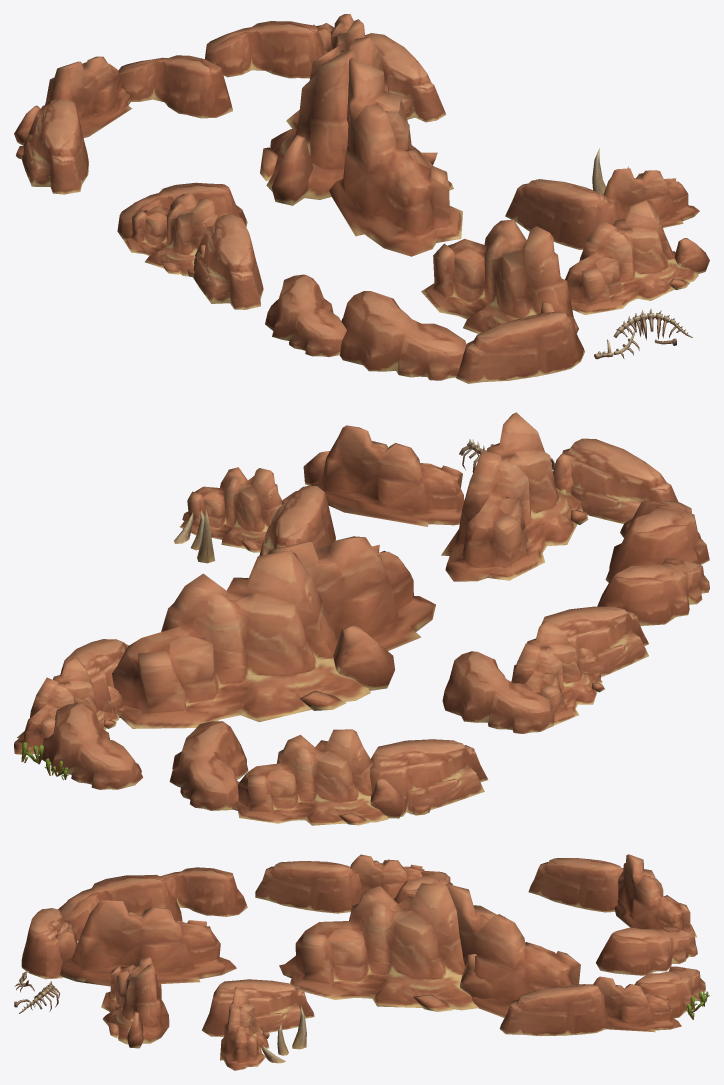
File: rock_red03.fbx
3 renders of one model, top to bottom at view 1: azimuth 30°, elevation 25°; view 2: azimuth 150°, elevation 25°; view 3: azimuth 270°, elevation 25°, orthographic. The views are drawn at different scales.
Parts seen in each view (by area): view 1: rock_red03; view 2: rock_red03; view 3: rock_red03.
Part boxes in pixels (box(x1,y1,x2,y2)): rock_red03: box(14, 14, 709, 383); rock_red03: box(14, 412, 709, 825); rock_red03: box(14, 854, 709, 1070).
Bounding box in the file's own units: 5504 × 1335 × 8397.
1 material, 1 textured.
